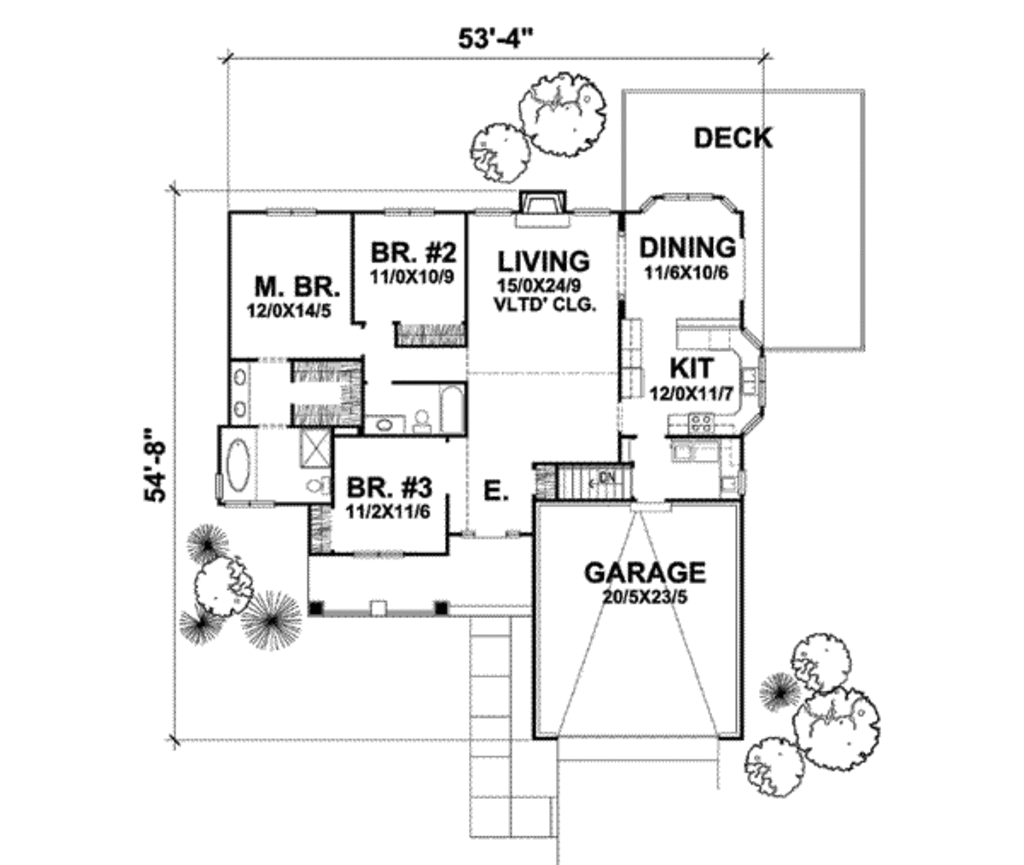large_sink: (300, 468, 333, 497), (407, 408, 432, 436)
small_sink: (229, 359, 251, 431), (356, 411, 407, 435)
stairs: (548, 461, 643, 501)
tub: (217, 428, 259, 503), (434, 385, 463, 437)
windows: (340, 545, 411, 563), (376, 201, 434, 222), (660, 189, 715, 209), (260, 203, 319, 221)
